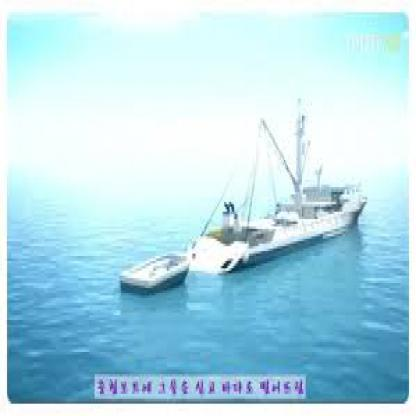fish-b: (188, 93, 374, 286)
